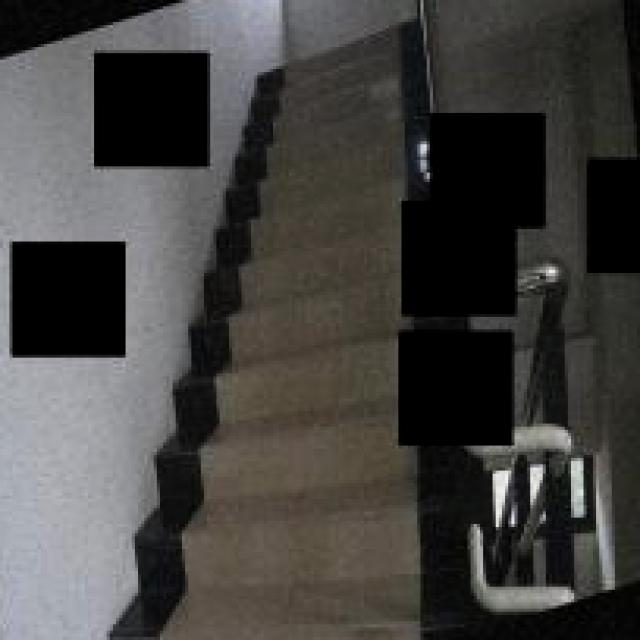upstair: (240, 89, 393, 640)
